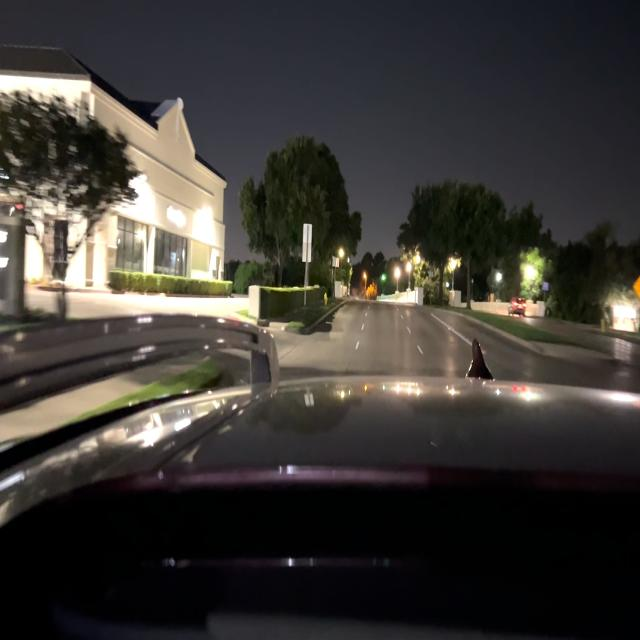back-of-sign: (304, 226, 313, 262)
